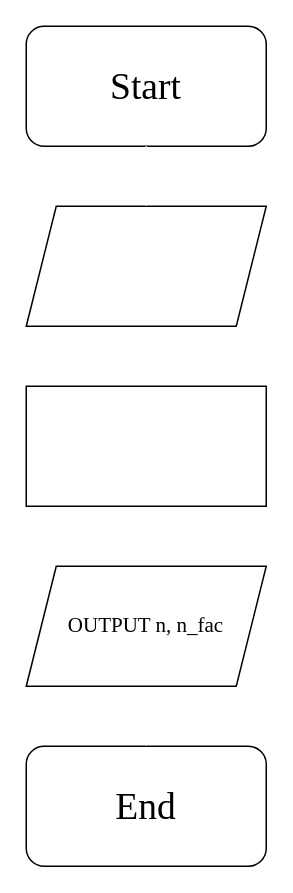
This 293x893 diagram has some shape labels left out. Here are the shapes that lost their labels. From the top down, the box of each, then its label:
(25, 205, 266, 326): INPUT n
(25, 385, 266, 506): n_fac ← factorial(n)
